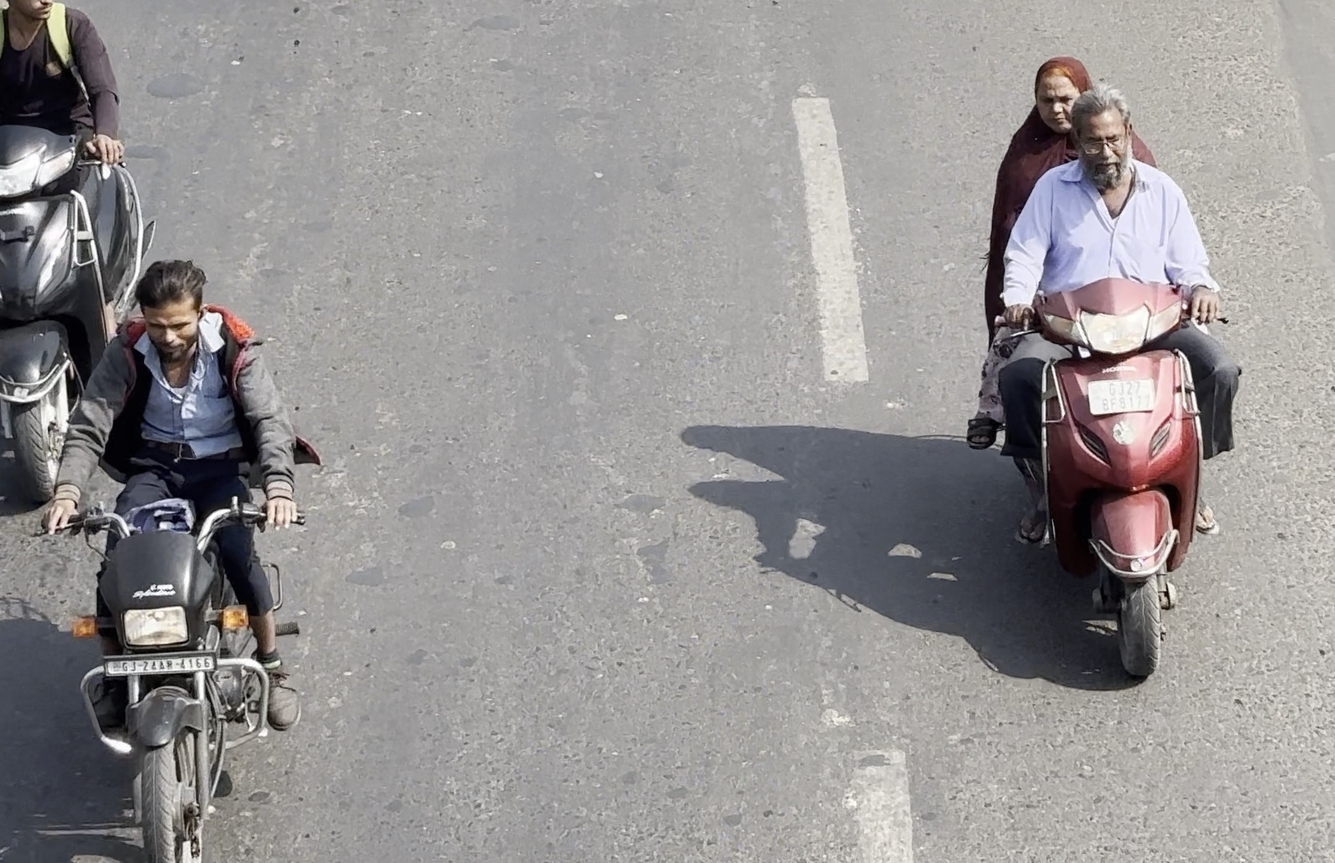BikeWithRider: (957, 45, 1251, 689), (30, 248, 331, 862), (0, 0, 168, 517)
NoHelmet: (126, 252, 220, 366), (1061, 84, 1145, 193), (1020, 49, 1101, 141)
